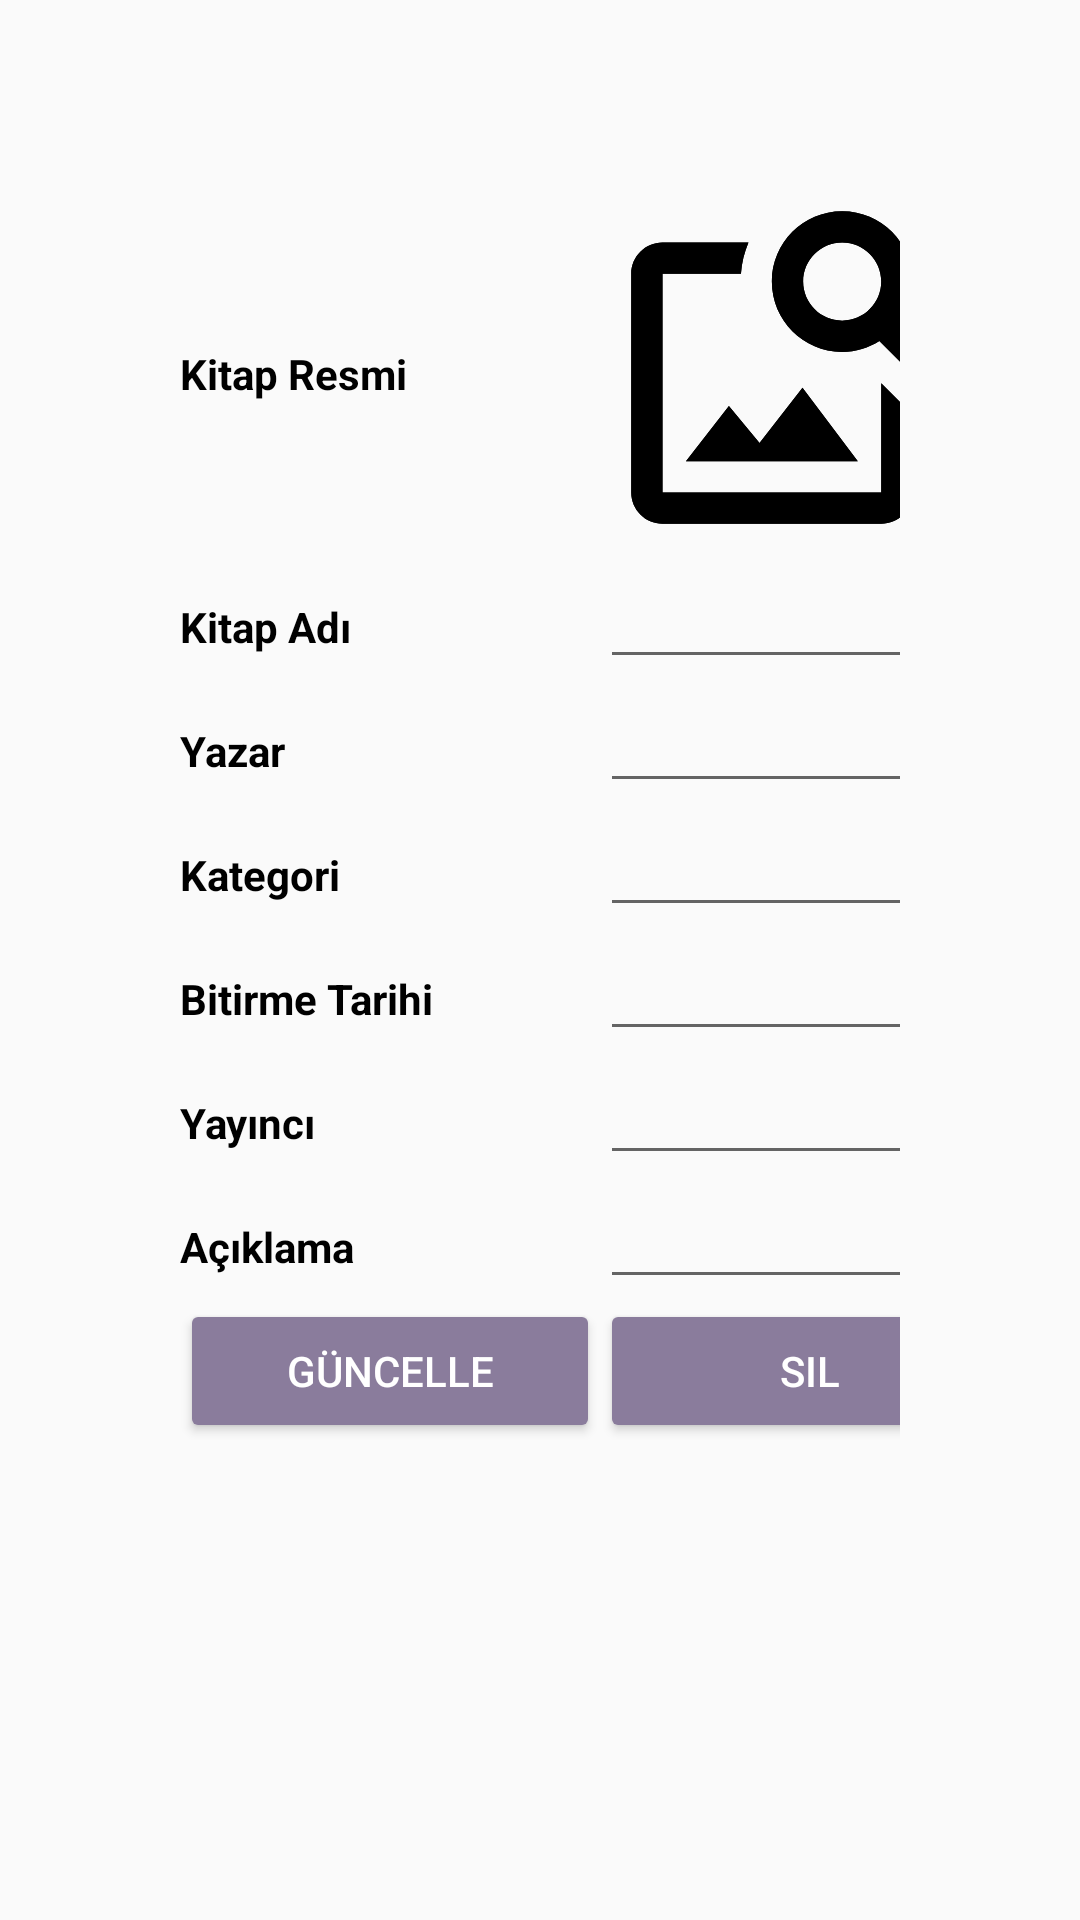

Locate icon controls on the screen. Image size 1080 x 1920, boxes as BBox(x1, y1, x2, y2).
search: BBox(631, 211, 900, 524)
